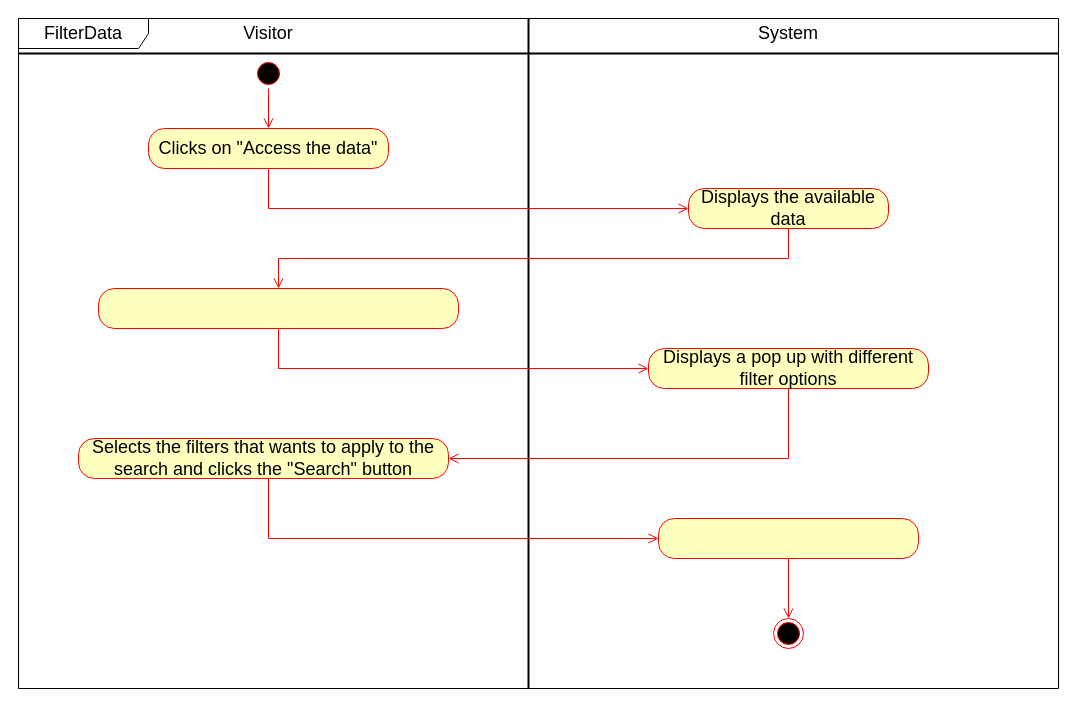
The diagram is 1076 pixels wide and 706 high, and some of its shapes have lost their labels. Here are the shapes that lost their labels. From the top down, the centre of each, then its label:
the point at 278,308: Select the "Filter" button on a data set
the point at 788,538: Searches with the selected filters on the data set
